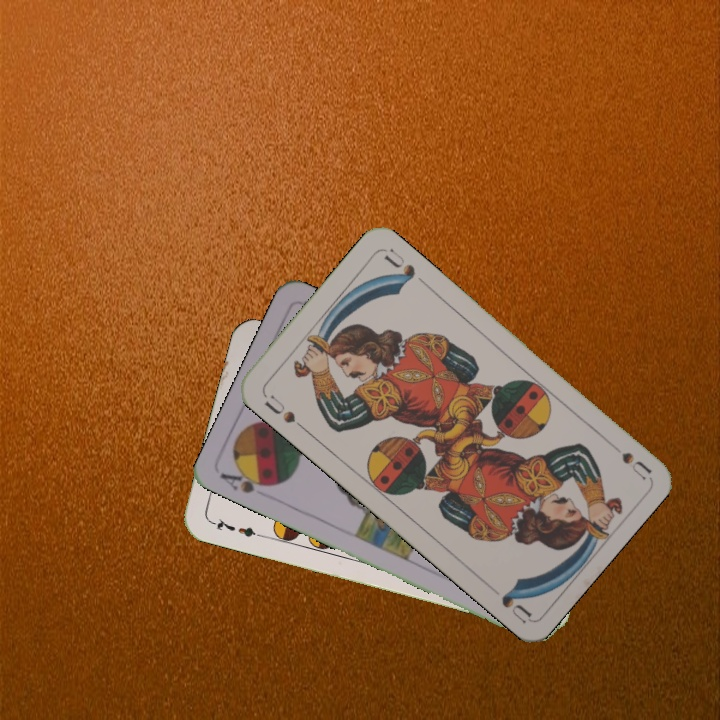E7: (207, 514, 265, 540)
SA: (216, 464, 277, 496)
SU: (259, 390, 308, 433), (617, 447, 654, 482)
